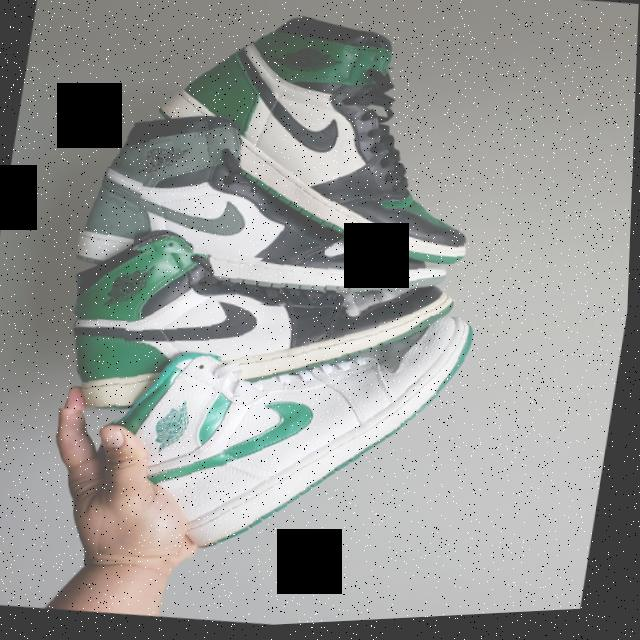shoe: (132, 0, 551, 297), (92, 281, 484, 598), (14, 208, 489, 461), (63, 86, 485, 330)
